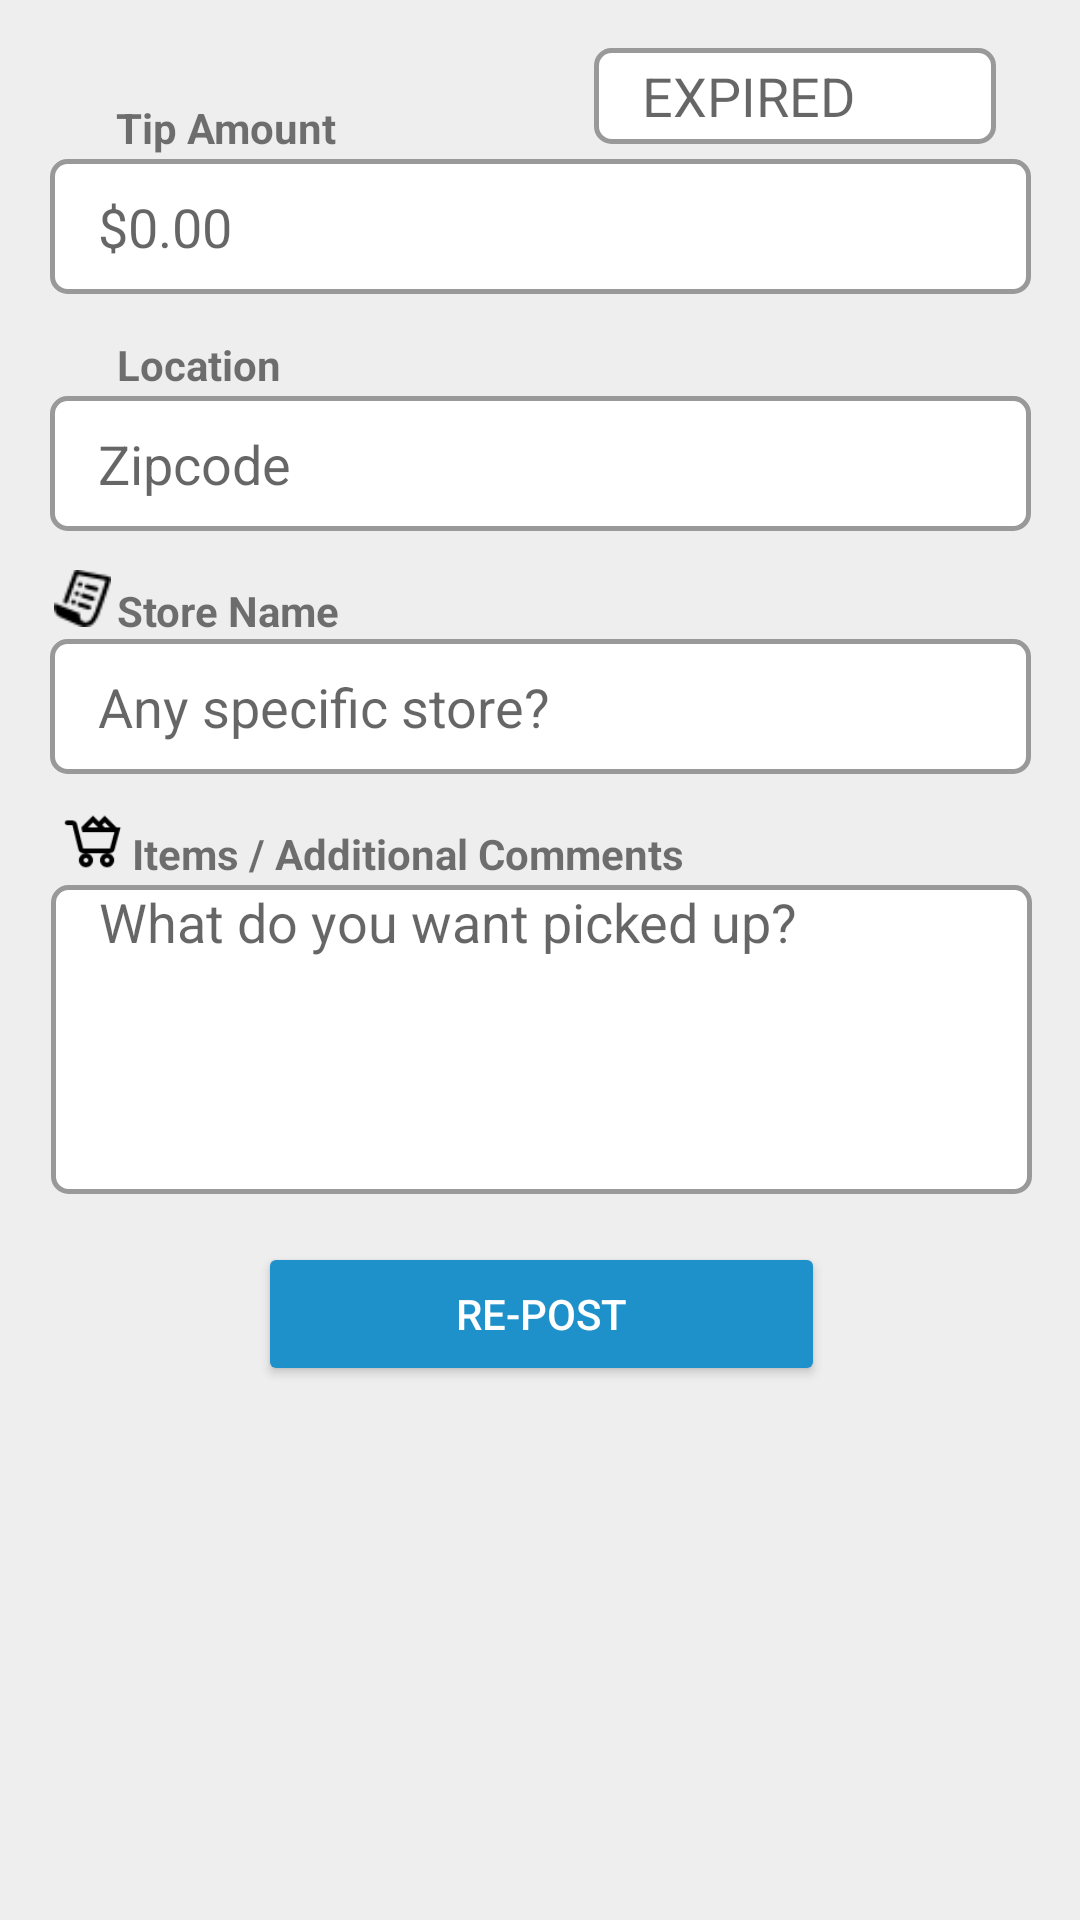

Locate icon controls on the screen. Image size 1080px x 1920px, boxes as [x1, y1, x2, y2].
shoppingcart: [64, 815, 138, 870]
